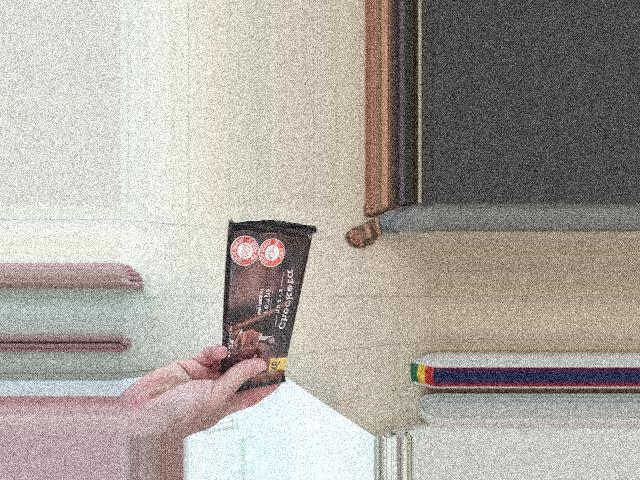chocolate: (205, 216, 319, 388)
